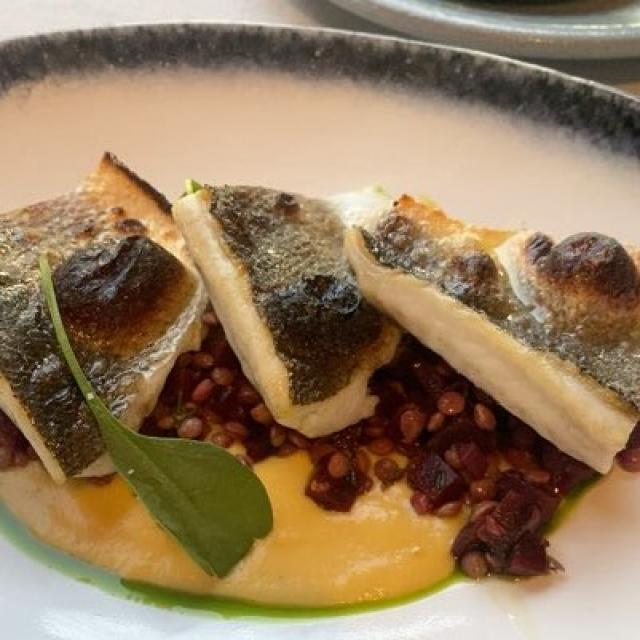fish: (6, 160, 636, 473)
lentils: (132, 341, 562, 577)
